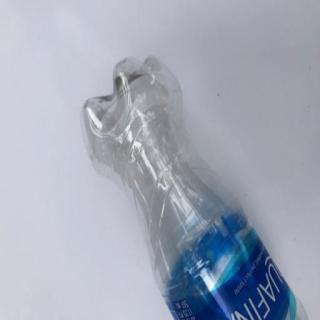Plastic-bottle: (82, 53, 312, 320)
